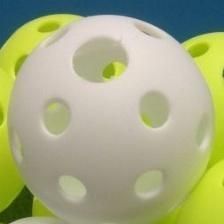Sports-Ball: (17, 18, 214, 213)
